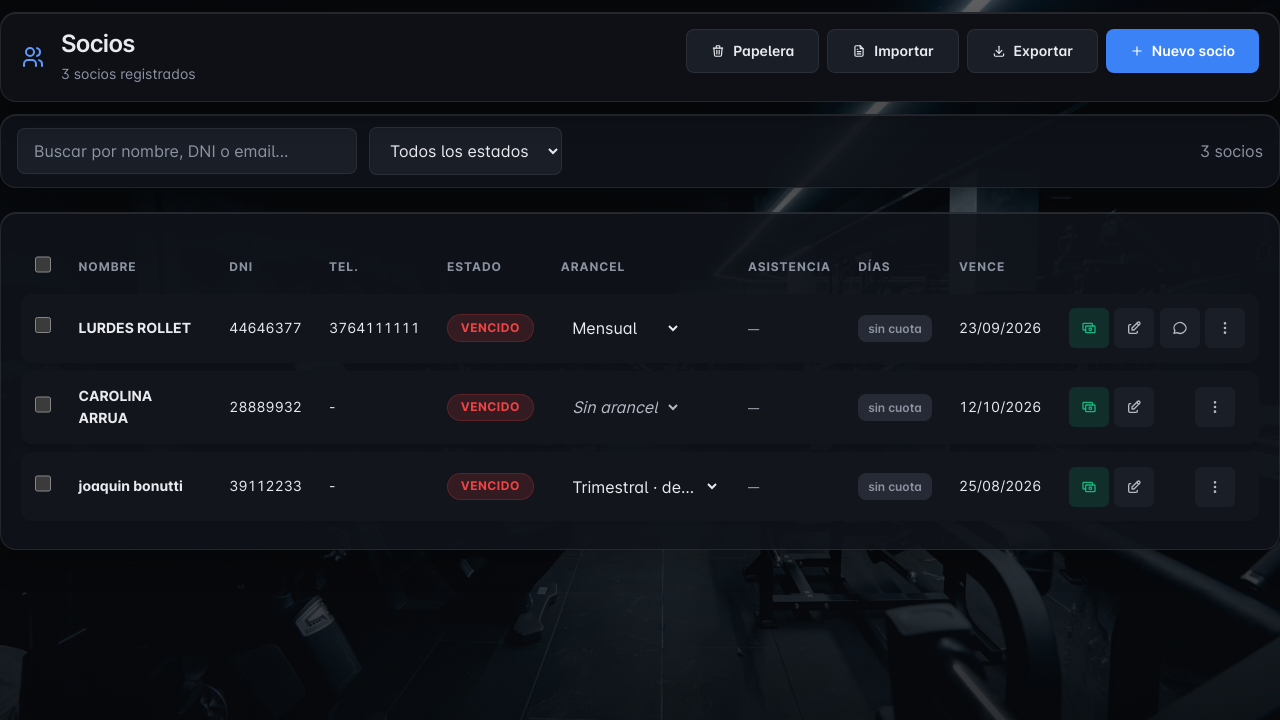
Test: asignar el arancel a muchos de una vez › la casilla del encabezado marca todo lo que se está viendo
The width and height of the screenshot is (1280, 720).
Click the checkbox named "Marcar los de esta página" at (43, 264), box [35,256,51,273]
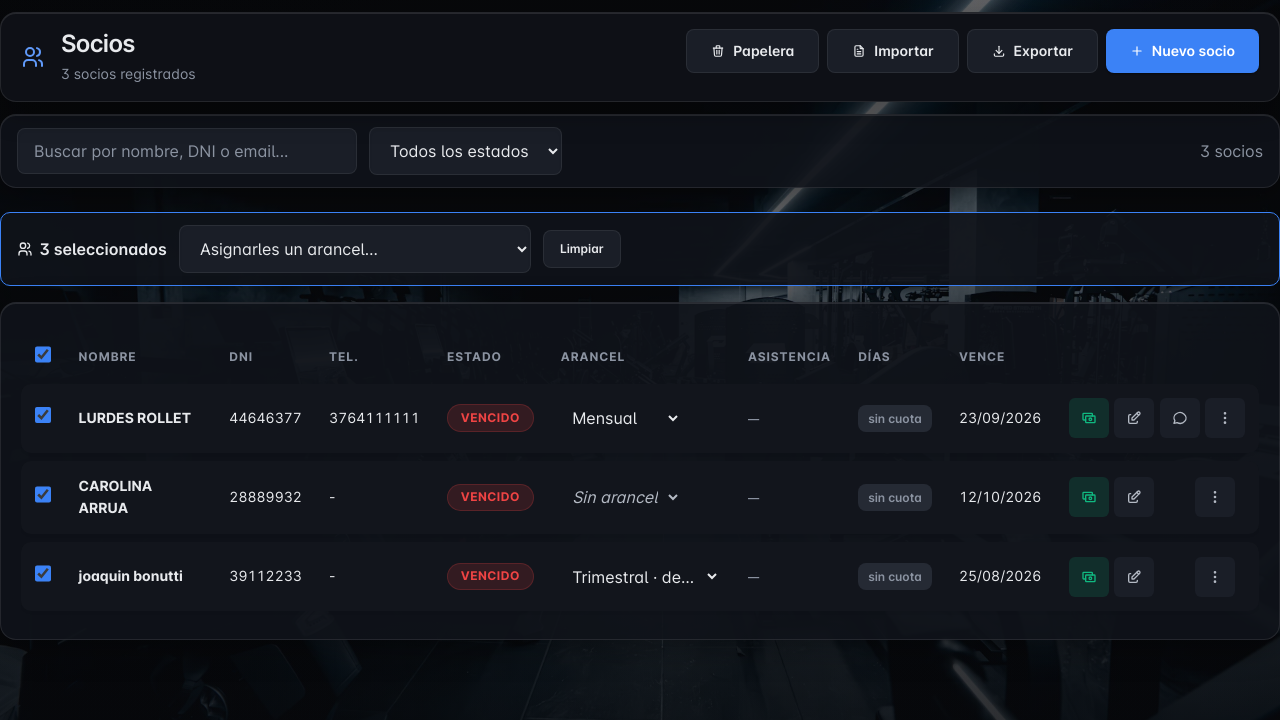
Result: the text "3 seleccionados" is shown at [17,237,167,262]
